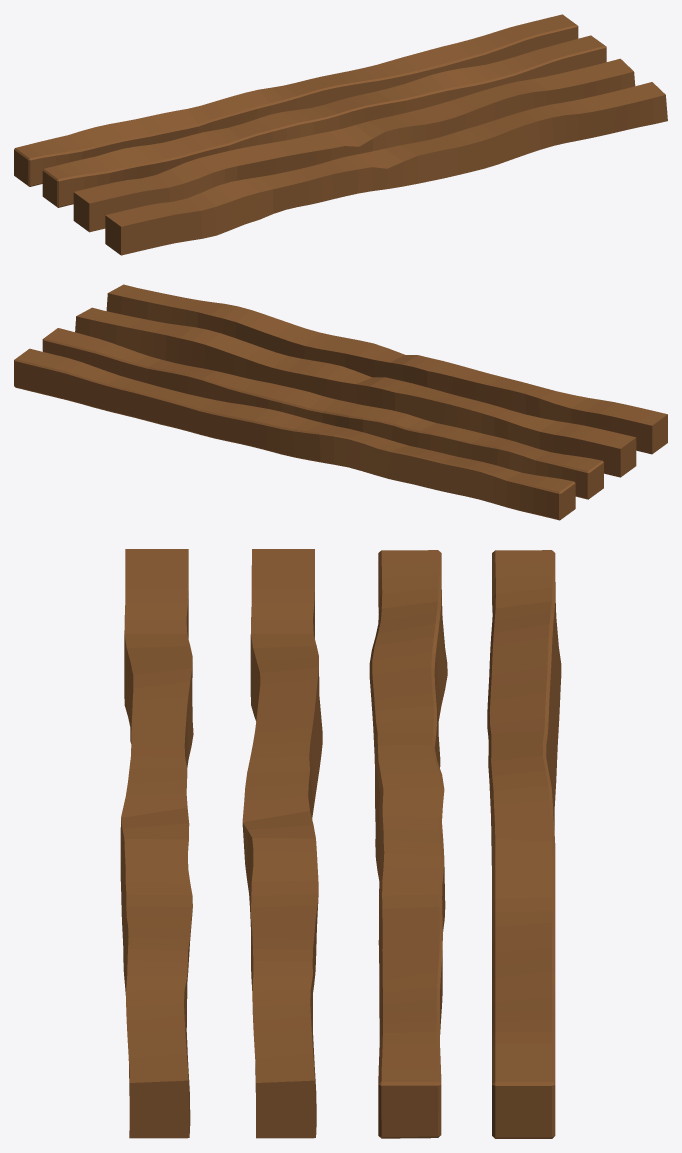
Rendered from beam 3.fbx.
The picture shows the model from 3 angles, top to bottom: view 1: azimuth 30°, elevation 25°; view 2: azimuth 150°, elevation 25°; view 3: azimuth 270°, elevation 25°; orthographic projection. The views are drawn at different scales.
Parts seen in each view (by area): view 1: Beam.004, Beam.003, Beam.002, Beam.001; view 2: Beam.001, Beam.003, Beam.004, Beam.002; view 3: Beam.003, Beam.002, Beam.001, Beam.004.
Part boxes in pixels (left/top/right/bottom): Beam.004: left=105, top=82, right=667, bottom=255; Beam.003: left=73, top=58, right=635, bottom=232; Beam.002: left=42, top=35, right=606, bottom=207; Beam.001: left=14, top=14, right=578, bottom=186; Beam.001: left=14, top=348, right=575, bottom=520; Beam.003: left=75, top=307, right=636, bottom=477; Beam.004: left=106, top=284, right=667, bottom=454; Beam.002: left=42, top=328, right=603, bottom=499; Beam.003: left=242, top=549, right=322, bottom=1138; Beam.002: left=369, top=550, right=447, bottom=1138; Beam.001: left=487, top=550, right=561, bottom=1138; Beam.004: left=120, top=549, right=193, bottom=1138.
Size of what is drawn, in the model's own units: 1000 by 62.89 by 349.
